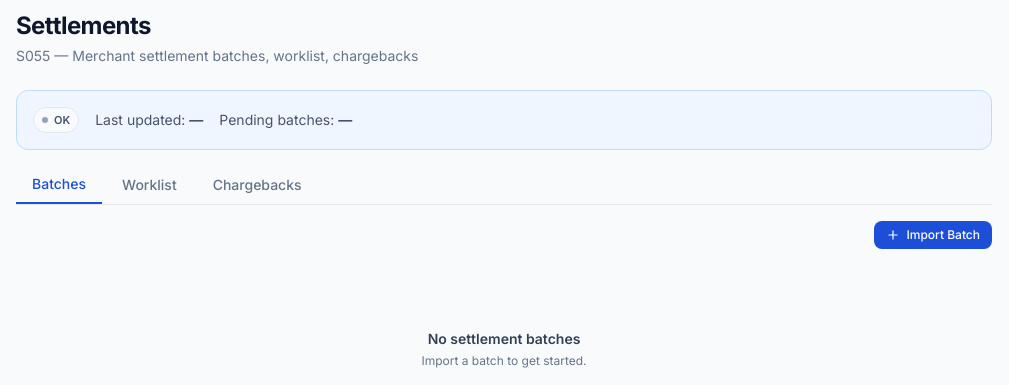
Settlements › worklist tab shows empty state
This screenshot has width=1009, height=385.
What coordinates should you click on to do the following:
click the button "Worklist"
I would click on:
 (149, 185)
Its box is [106, 166, 193, 204].
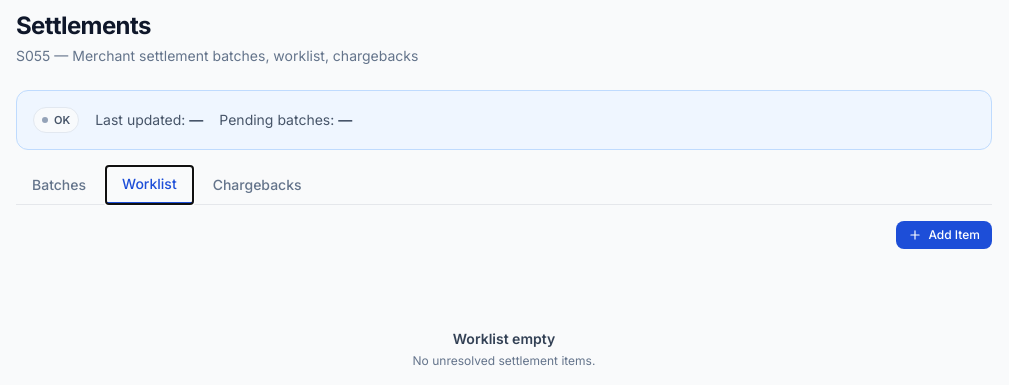
expect the text "Worklist empty" is shown: met, box [453, 329, 555, 349]
